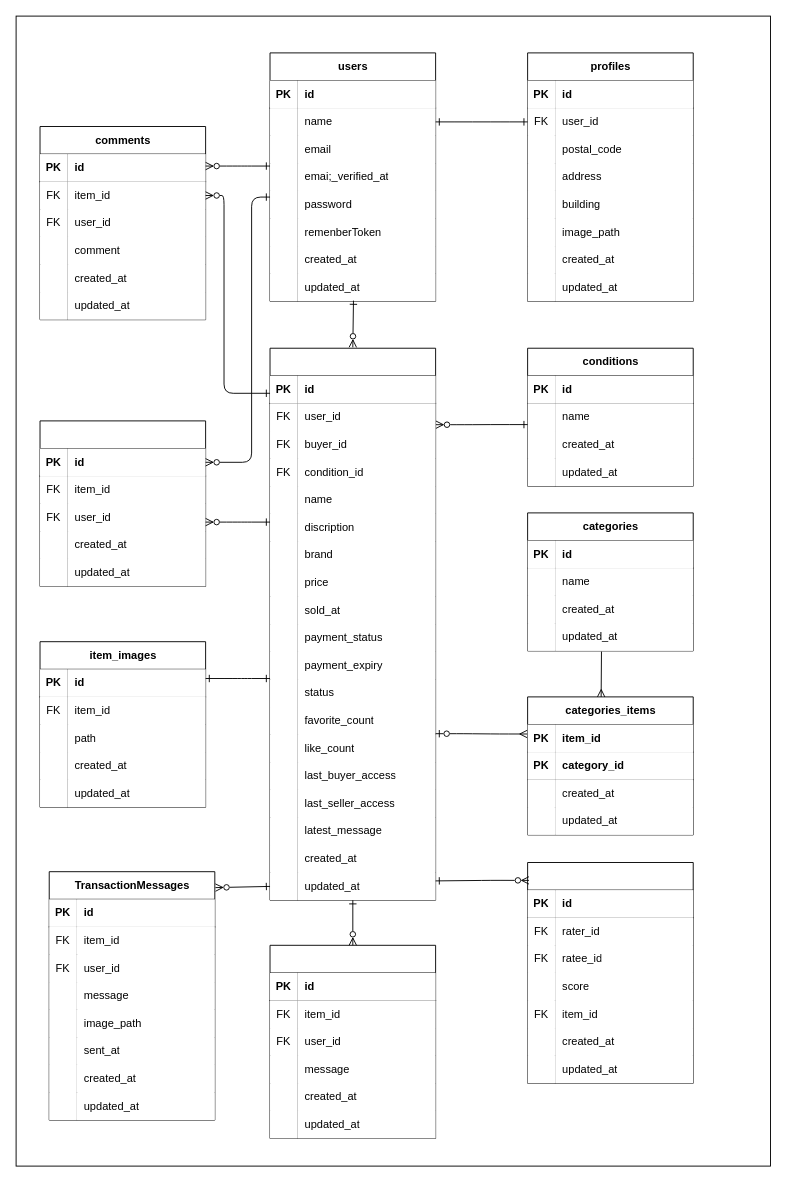
Image size: 787x1182. Some labels were removed from this diagram. The box of each missing label's shape, as (x1, y1, x2, y2) in pixels:
favorites: (39, 420, 206, 586)
items: (269, 347, 436, 900)
Ratings: (527, 862, 693, 1083)
TransactionTempMessages: (269, 944, 436, 1138)
